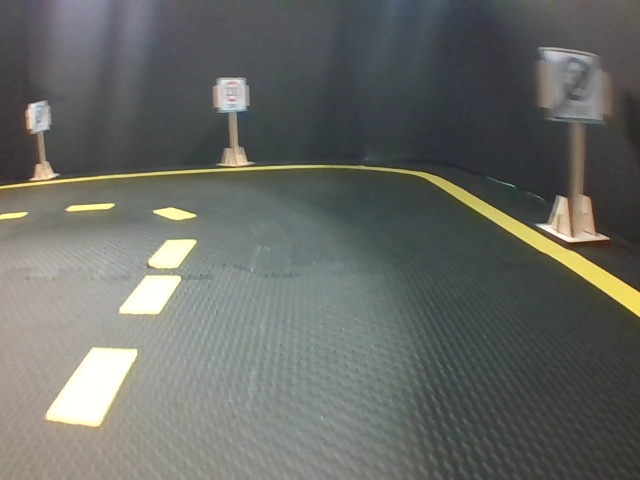30: (218, 78, 244, 110)
no30: (545, 48, 601, 124), (30, 103, 46, 131)
